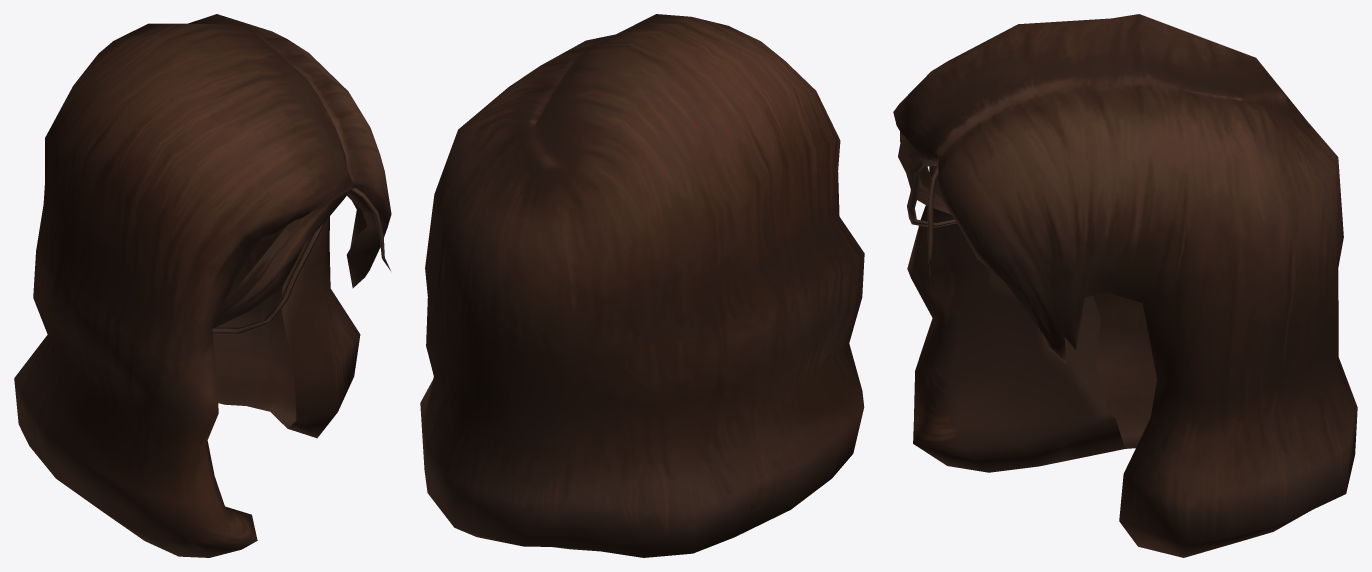
File: F_jichuchangfa01.FBX
3 views of the same model, side by side, from view 1: azimuth 30°, elevation 25°; view 2: azimuth 150°, elevation 25°; view 3: azimuth 270°, elevation 25° (orthographic). The views are drawn at different scales.
Parts seen in each view (by area): view 1: F_jichuchangfa01; view 2: F_jichuchangfa01; view 3: F_jichuchangfa01.
Part boxes in pixels (<box>): F_jichuchangfa01: <box>14,14,391,557</box>; F_jichuchangfa01: <box>420,14,864,557</box>; F_jichuchangfa01: <box>893,14,1357,557</box>.
Size of the model in its own units: 20.78 by 26.4 by 23.16.
Materials: 1 (1 with a texture image).
